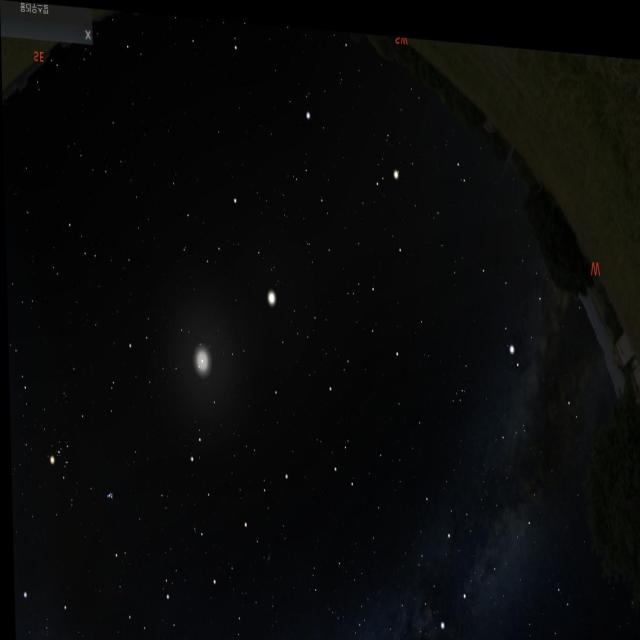aquila: (474, 219, 554, 362)
cygnus: (432, 491, 534, 640)
lyra: (543, 578, 575, 640)
moon: (174, 314, 232, 398)
pleiades: (95, 476, 120, 508)
taurus: (36, 397, 119, 523)
